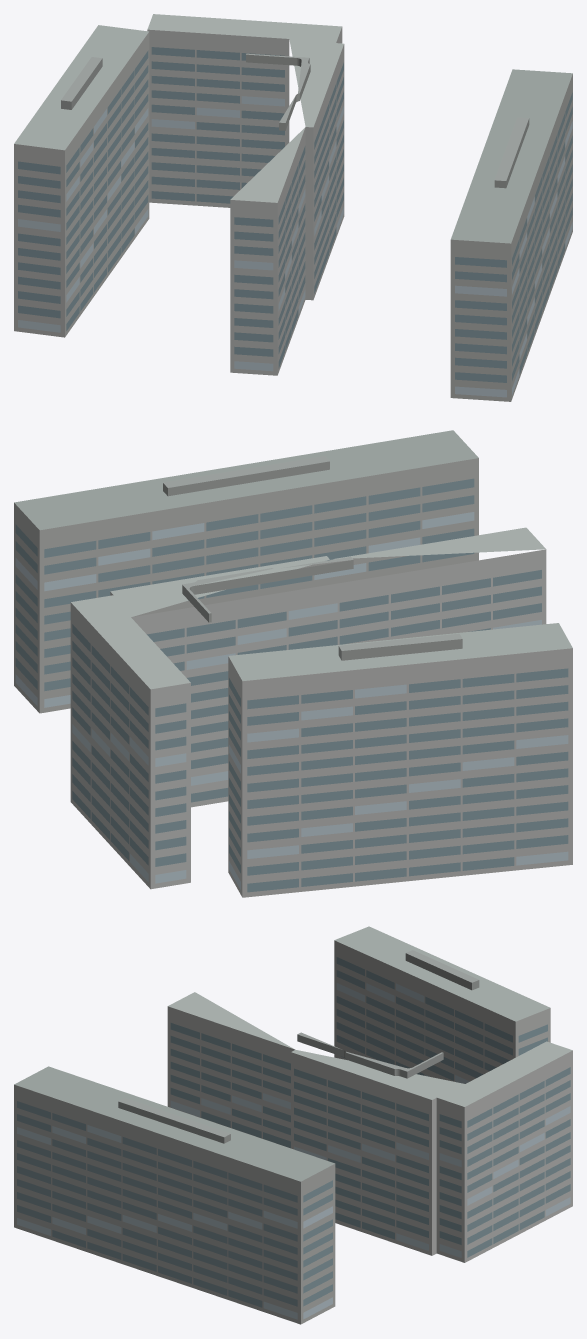
The model's file is apt-a13790706.glb.
The picture shows the model from 3 angles, top to bottom: view 1: azimuth 30°, elevation 25°; view 2: azimuth 150°, elevation 25°; view 3: azimuth 270°, elevation 25°; orthographic projection. The views are drawn at different scales.
Parts seen in each view (by area): view 1: apt-a13790706; view 2: apt-a13790706; view 3: apt-a13790706.
Part boxes in pixels (x1,y1,x2,y2): apt-a13790706: (14, 14, 572, 401); apt-a13790706: (14, 430, 572, 897); apt-a13790706: (14, 926, 572, 1324).
Bounding box in the file's own units: 115 × 41.43 × 119.
